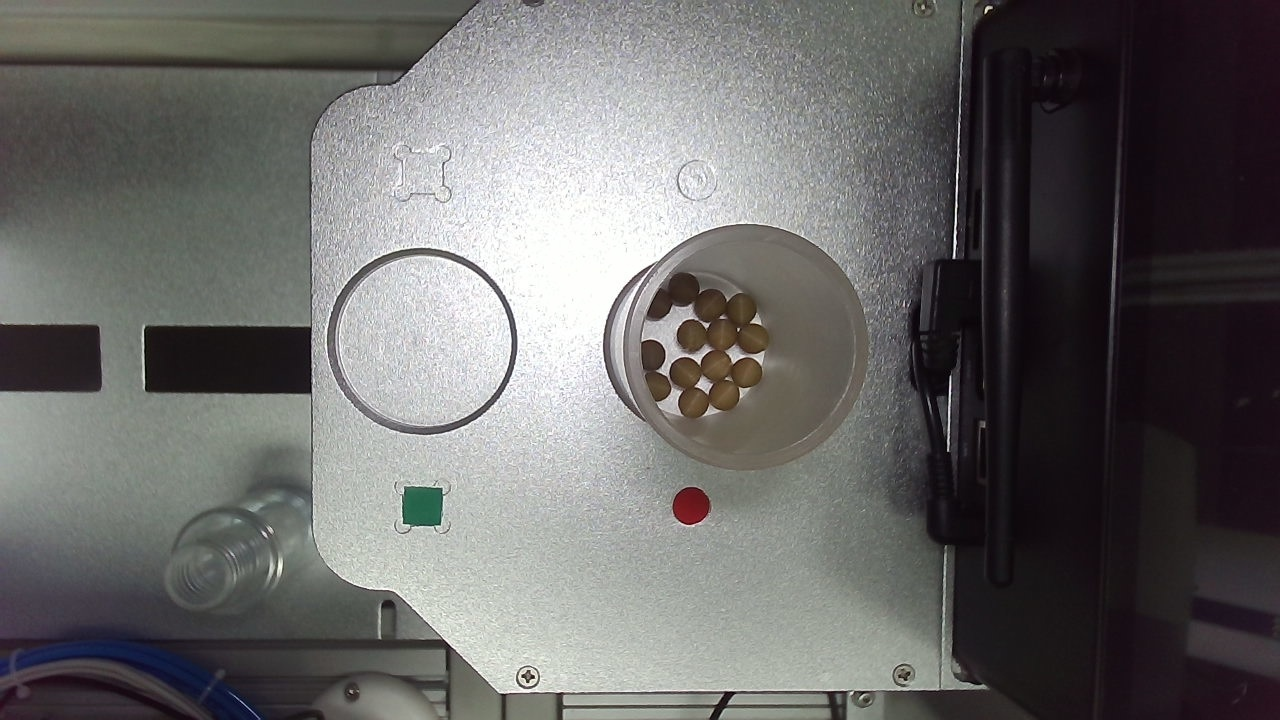XLabel: (835, 330, 869, 363)
YLabel: (616, 341, 651, 376)
none: (560, 411, 720, 573)
transparenexcept: (783, 397, 1093, 628)
